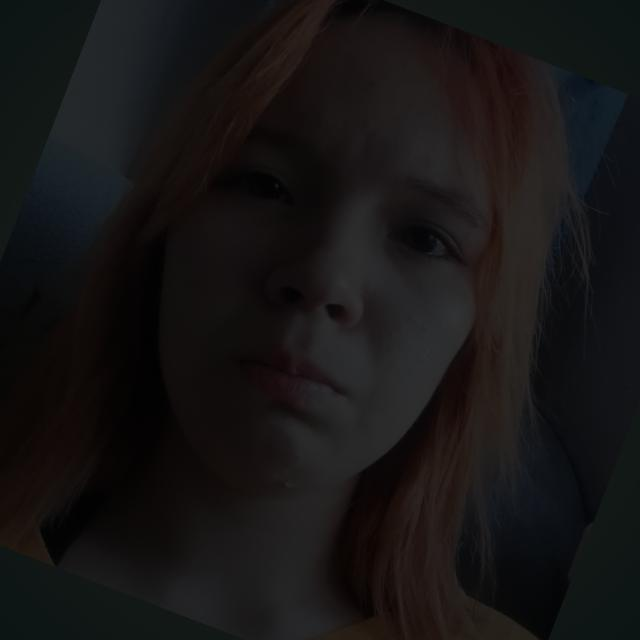Sad: (160, 87, 518, 507)
